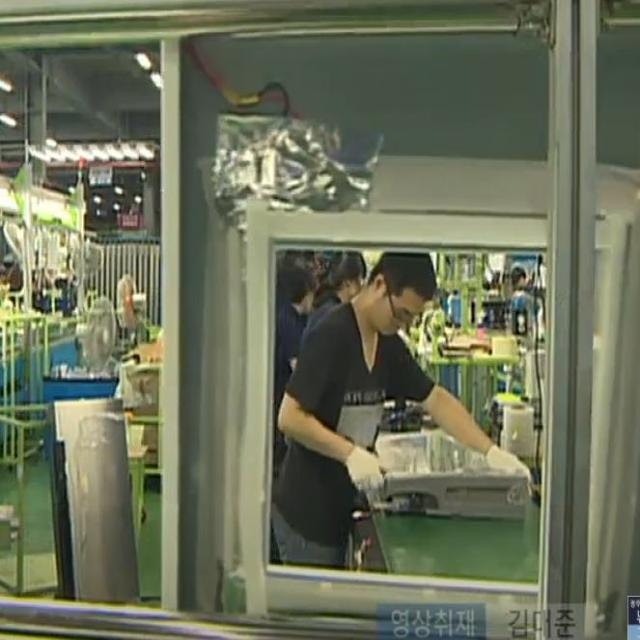gloved_hand: (342, 438, 388, 495), (480, 436, 533, 485)
